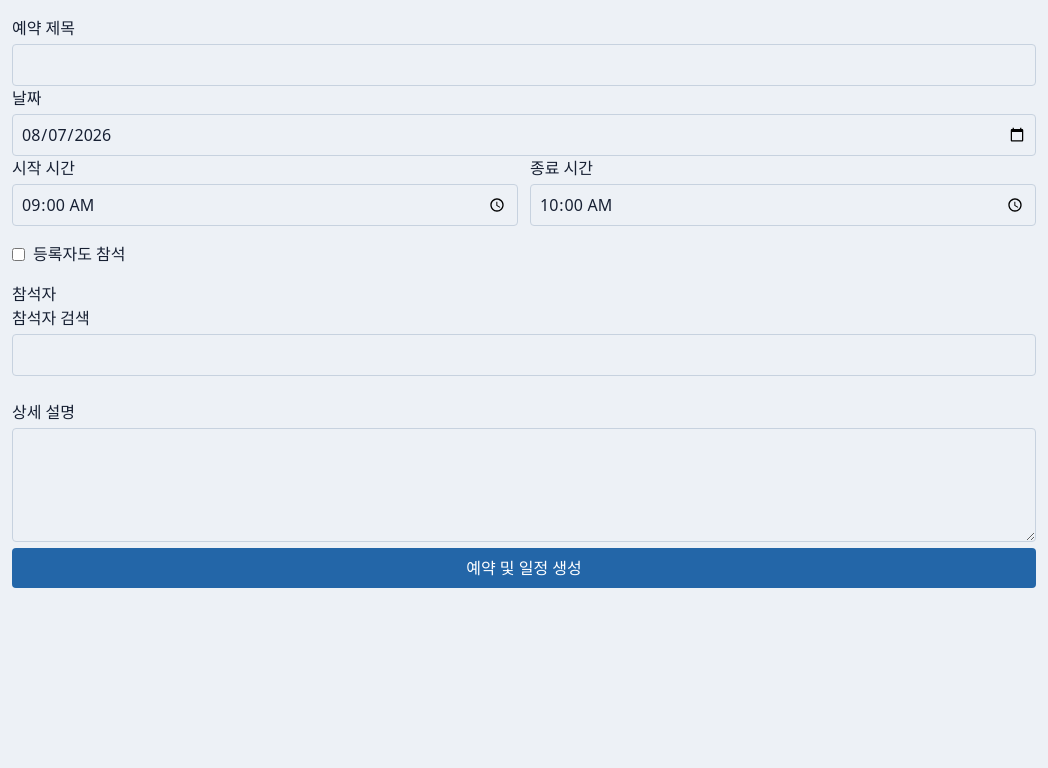
Test case: ReservationForm › converts creation values without a creator ID and reports successful connected-schedule creation
Type "혼자 사용하는 회의" into the field labelled "예약 제목" at (524, 65), box [12,44,1036,86]
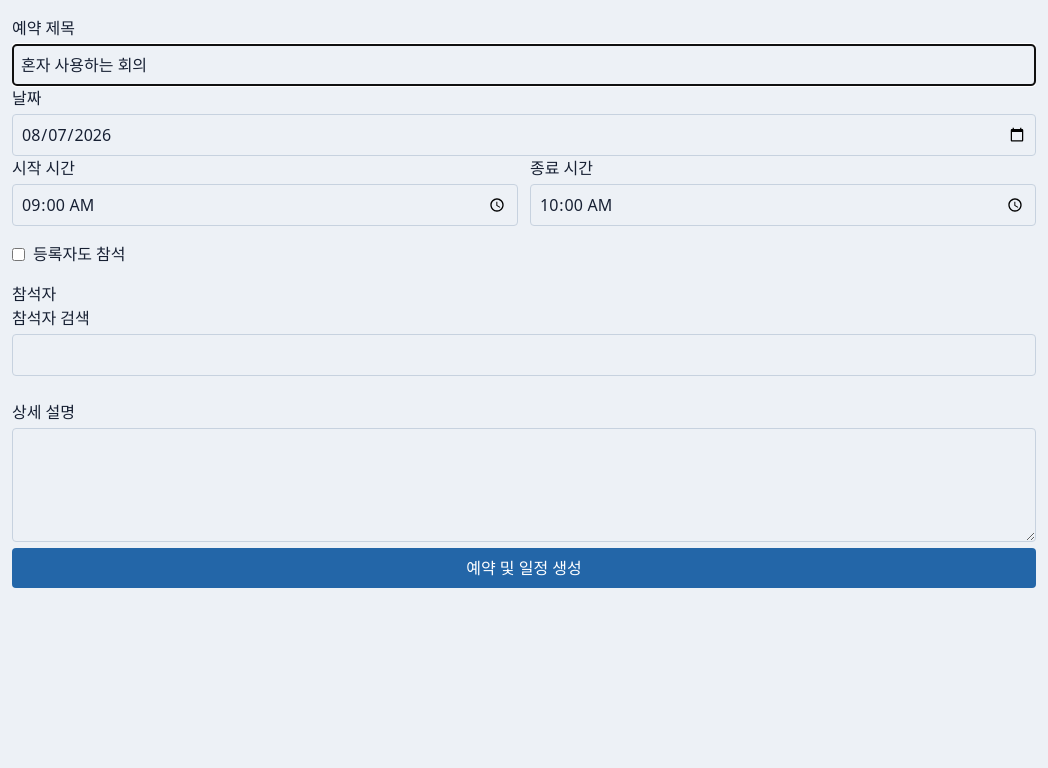
Click the checkbox labelled "등록자도 참석" at (18, 254), box [12,248,25,260]
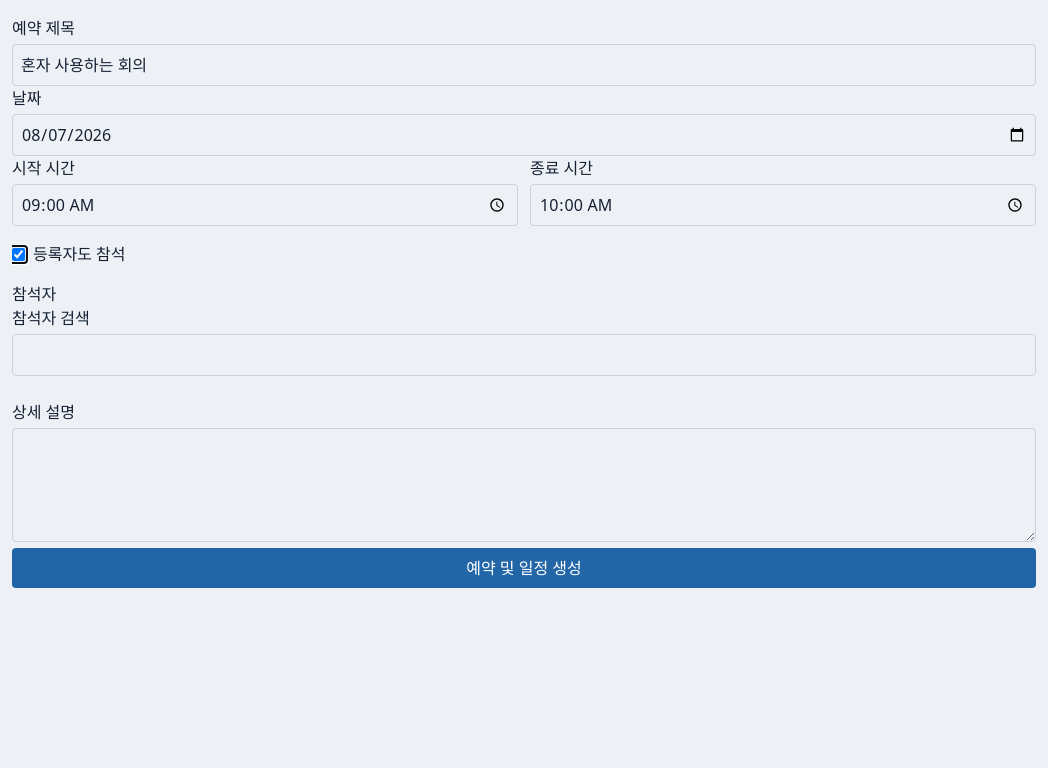
Click the button "예약 및 일정 생성" at (524, 568), box [12,548,1036,588]
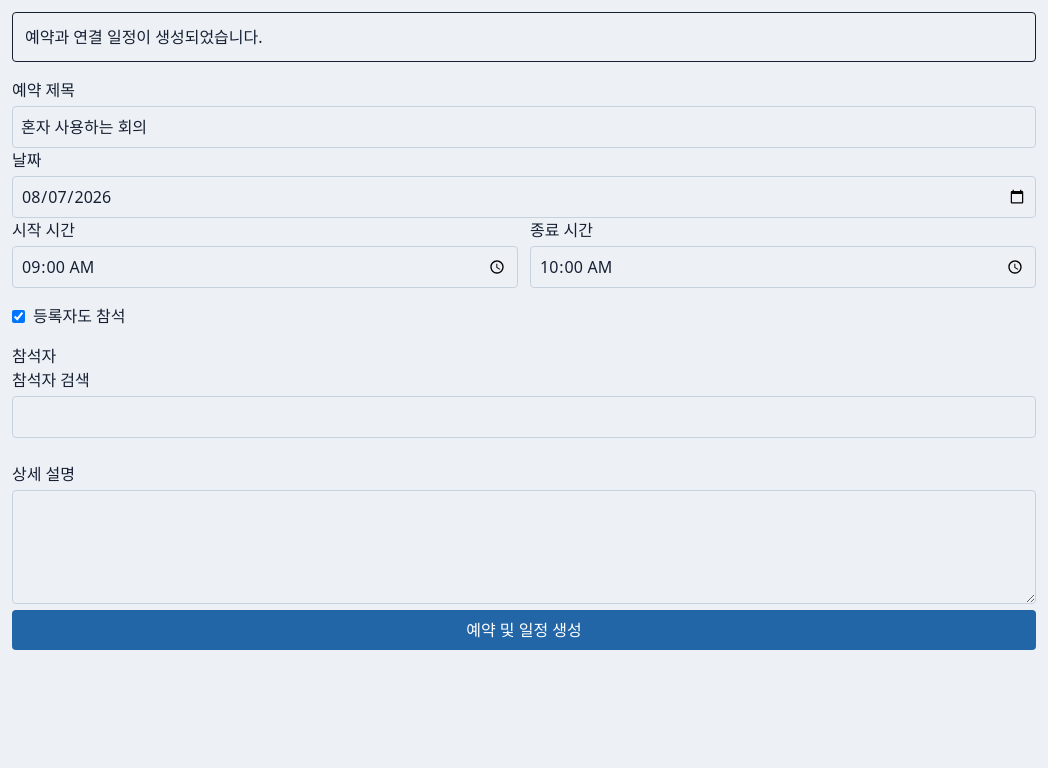
expect the message reads "예약과 연결 일정이 생성되었습니다.": met, box [25,26,263,48]
